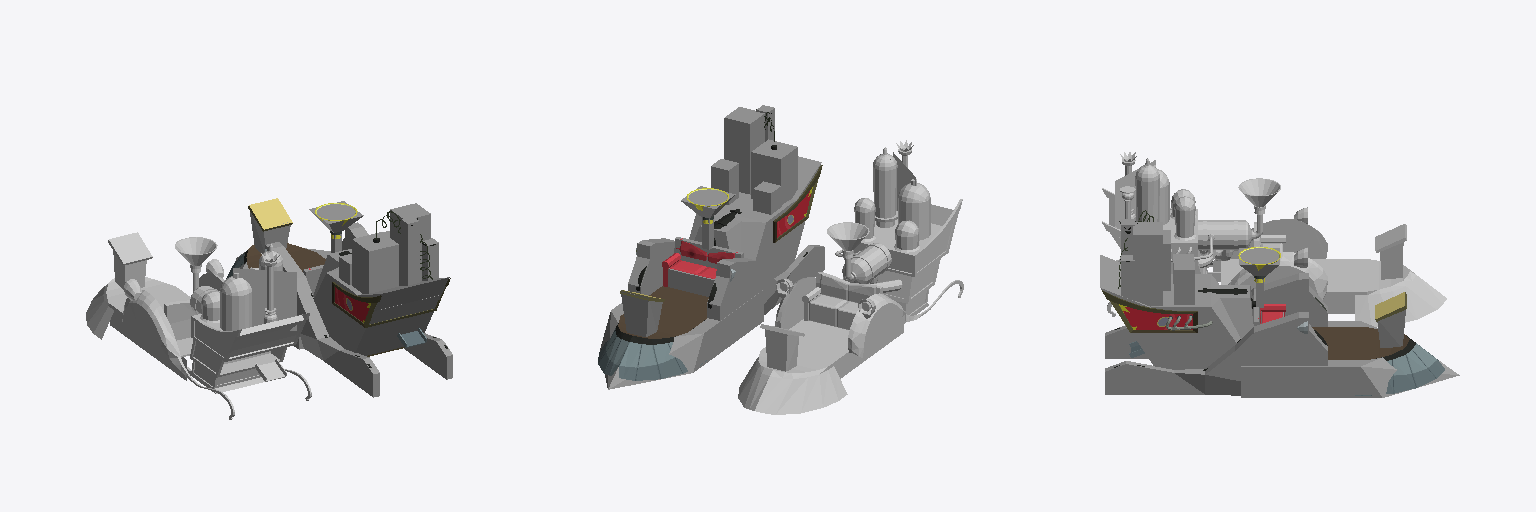
3 views of the same model, side by side, from view 1: azimuth 30°, elevation 25°; view 2: azimuth 150°, elevation 25°; view 3: azimuth 270°, elevation 25° (orthographic).
Visible parts, largest first — view 1: SSCS6k-early_Cube, SSCS6k_phys_Cube.002, SSCS6k_Original_Cube.004; view 2: SSCS6k-early_Cube, SSCS6k_phys_Cube.002, SSCS6k_Original_Cube.004; view 3: SSCS6k_phys_Cube.002, SSCS6k-early_Cube, SSCS6k_Original_Cube.004.
Part boxes in pixels (bbox=[...]): SSCS6k-early_Cube: bbox=[86, 232, 311, 419]; SSCS6k_phys_Cube.002: bbox=[235, 201, 452, 397]; SSCS6k_Original_Cube.004: bbox=[226, 198, 450, 367]; SSCS6k-early_Cube: bbox=[738, 140, 963, 414]; SSCS6k_phys_Cube.002: bbox=[600, 105, 824, 389]; SSCS6k_Original_Cube.004: bbox=[598, 109, 822, 380]; SSCS6k_phys_Cube.002: bbox=[1100, 219, 1459, 397]; SSCS6k-early_Cube: bbox=[1102, 152, 1446, 326]; SSCS6k_Original_Cube.004: bbox=[1102, 211, 1444, 395].
Size of the model in its own units: 8.46 by 5.81 by 11.11.
Materials: 6 (1 with a texture image).